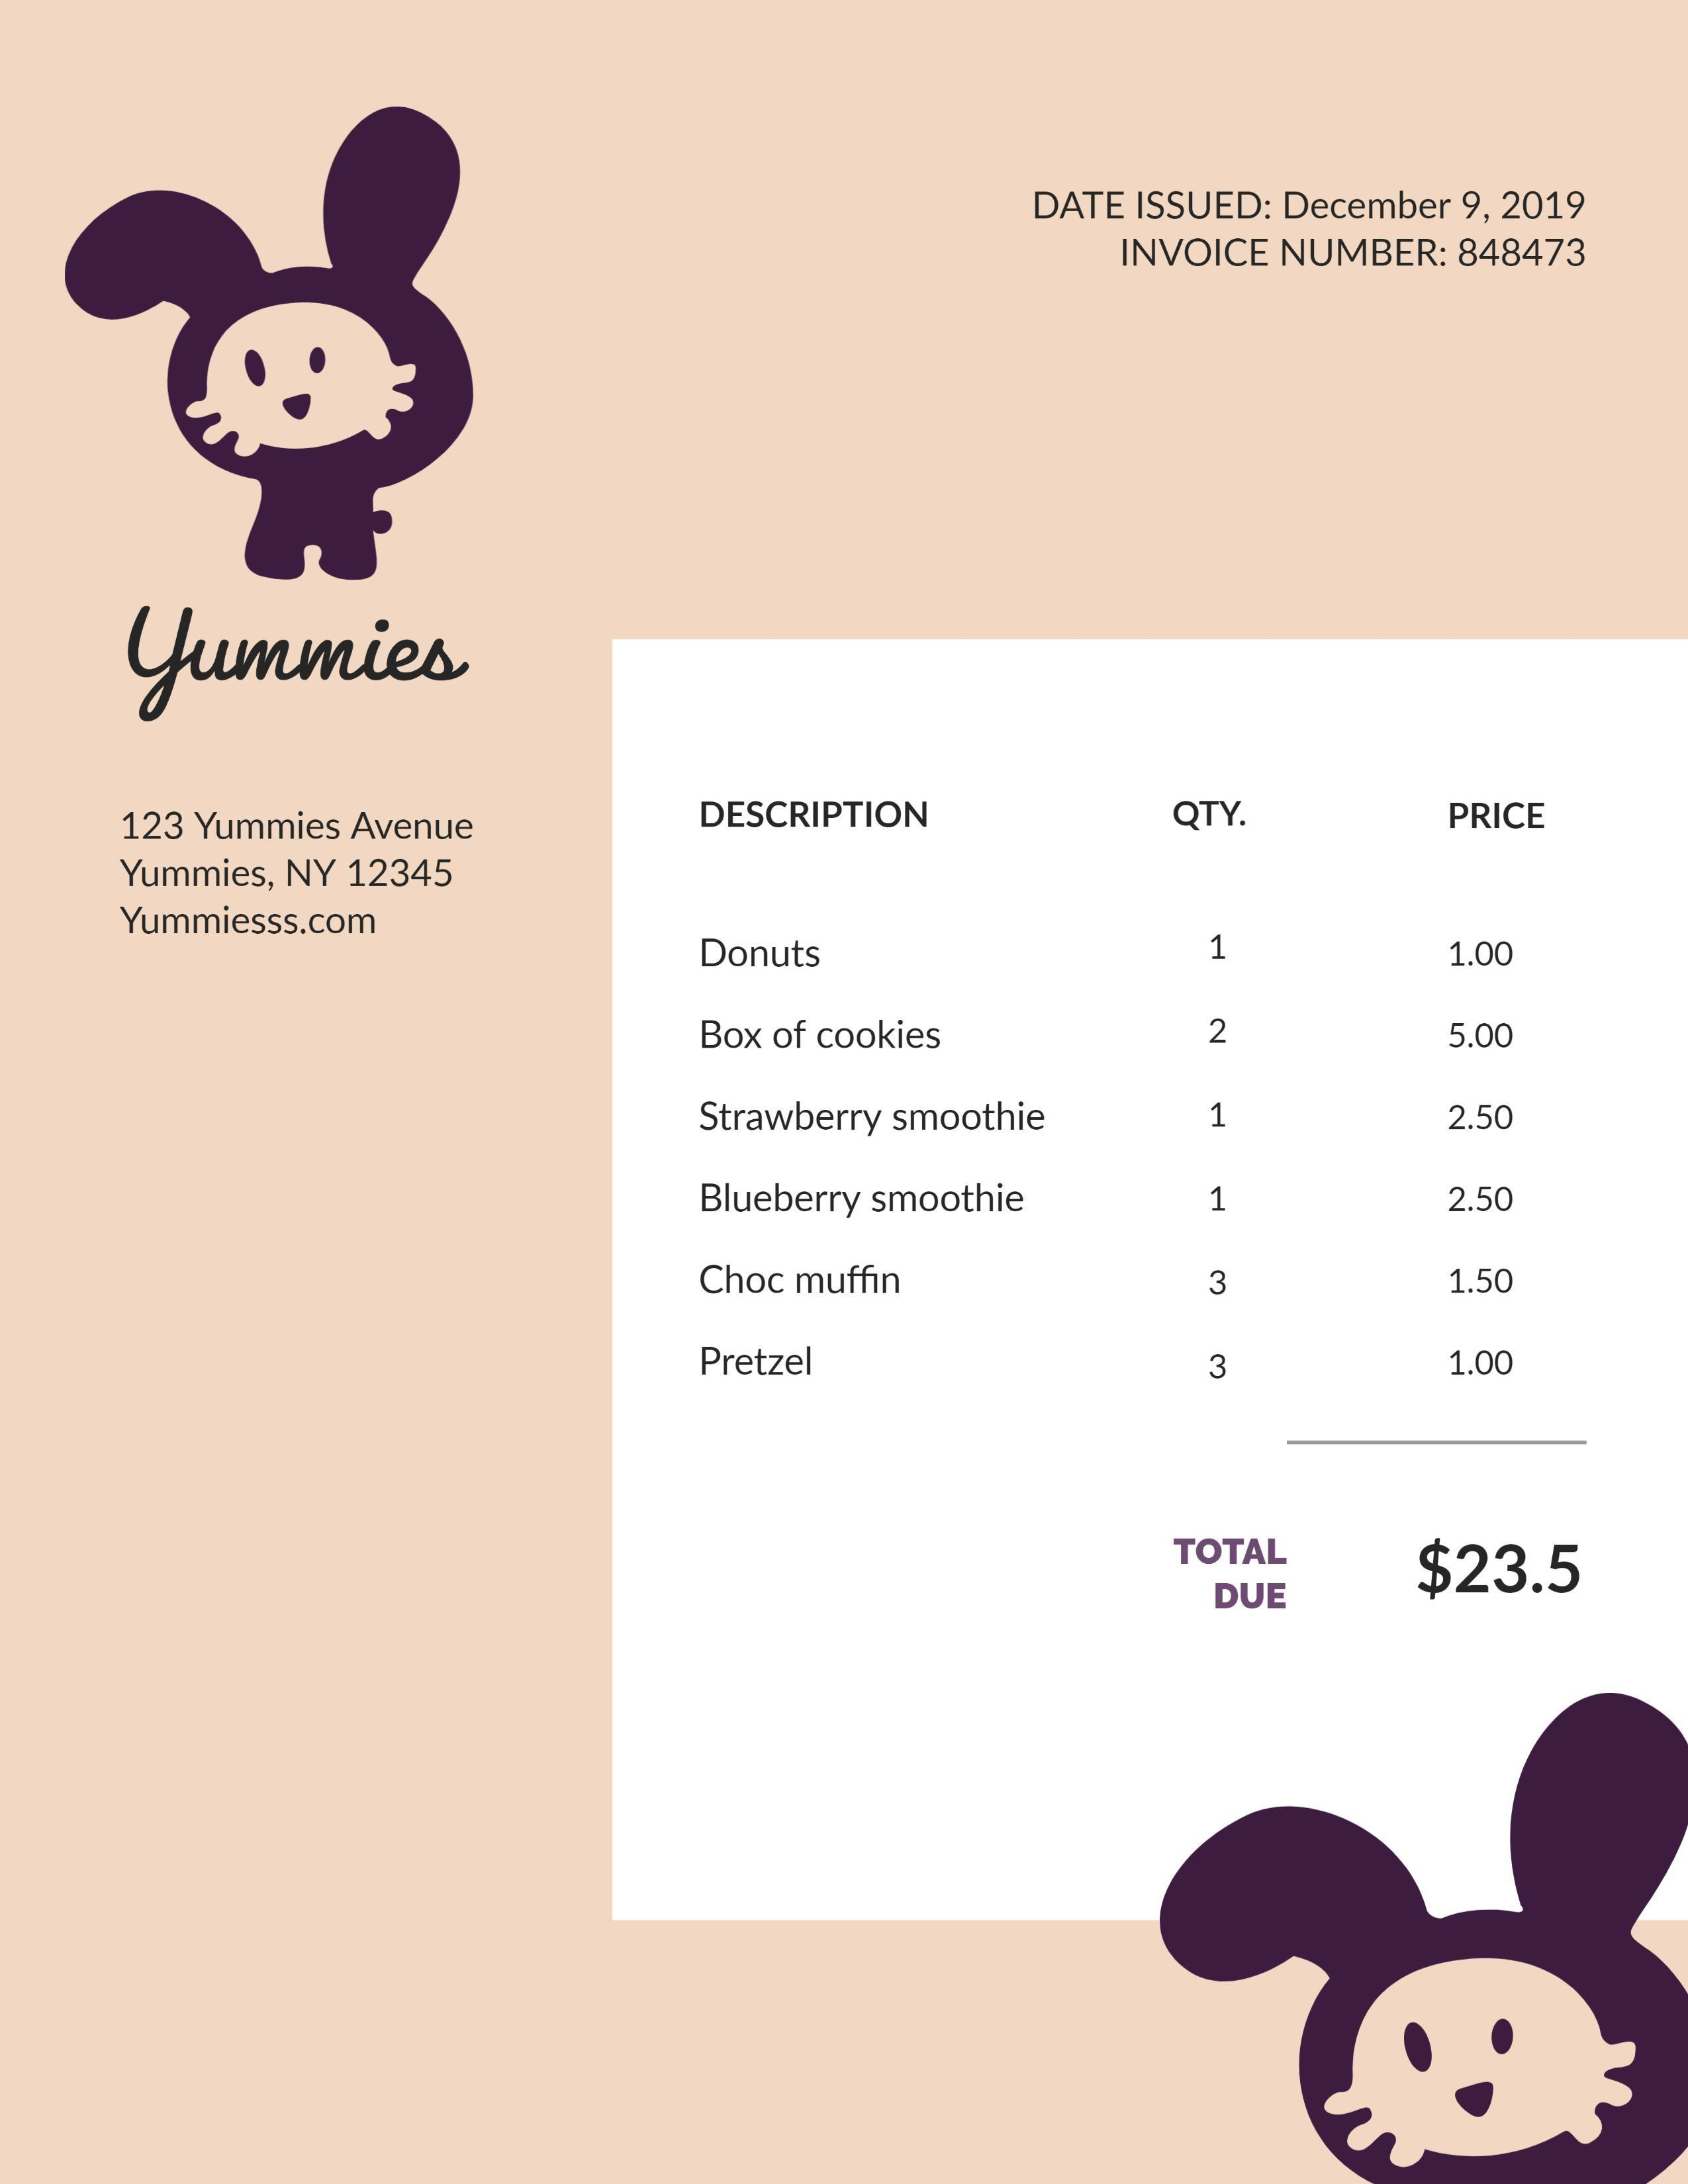ROI: (684, 787, 1596, 1436), (112, 585, 523, 977), (1016, 179, 1642, 298), (1153, 1496, 1592, 1642)
